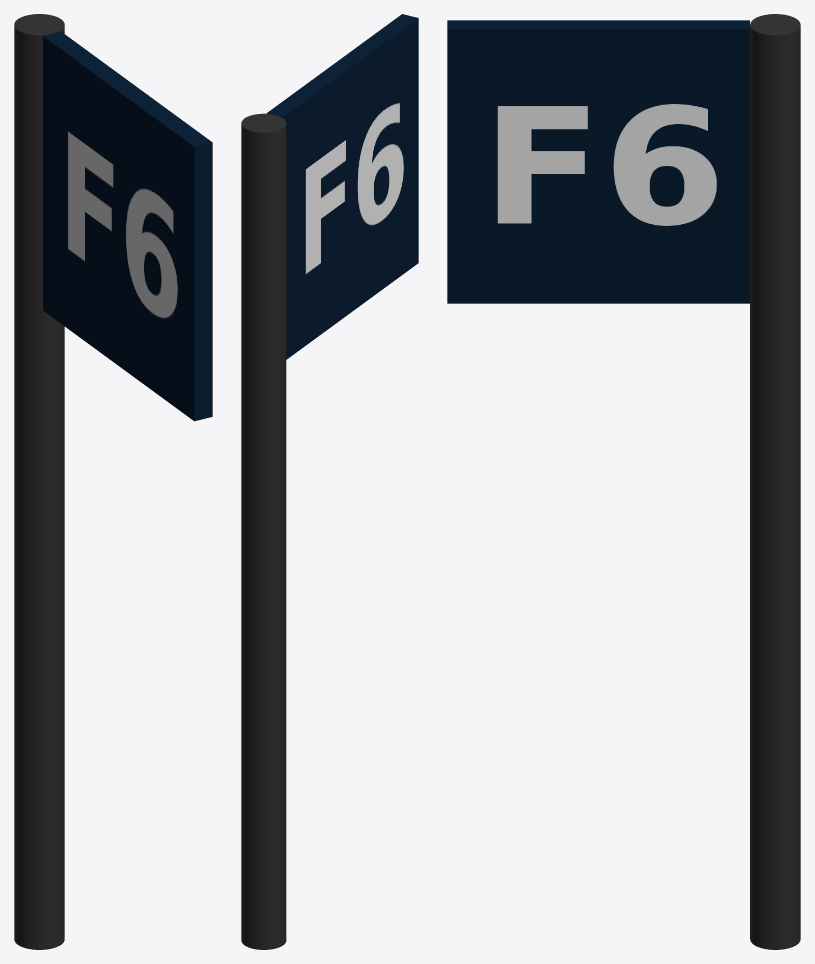
Rendered from start_flag.dae.
3 views of the same model, side by side, from view 1: azimuth 30°, elevation 25°; view 2: azimuth 150°, elevation 25°; view 3: azimuth 270°, elevation 25° (orthographic). The views are drawn at different scales.
Parts seen in each view (by area): view 1: flag; view 2: flag; view 3: flag.
Part boxes in pixels (x1=…): flag: x1=14, y1=14, x2=212, y2=949; flag: x1=241, y1=14, x2=418, y2=949; flag: x1=447, y1=14, x2=800, y2=949.
Bounding box in the file's own units: 0.1 × 0.7 × 2.
Materials: 2 (1 with a texture image).
